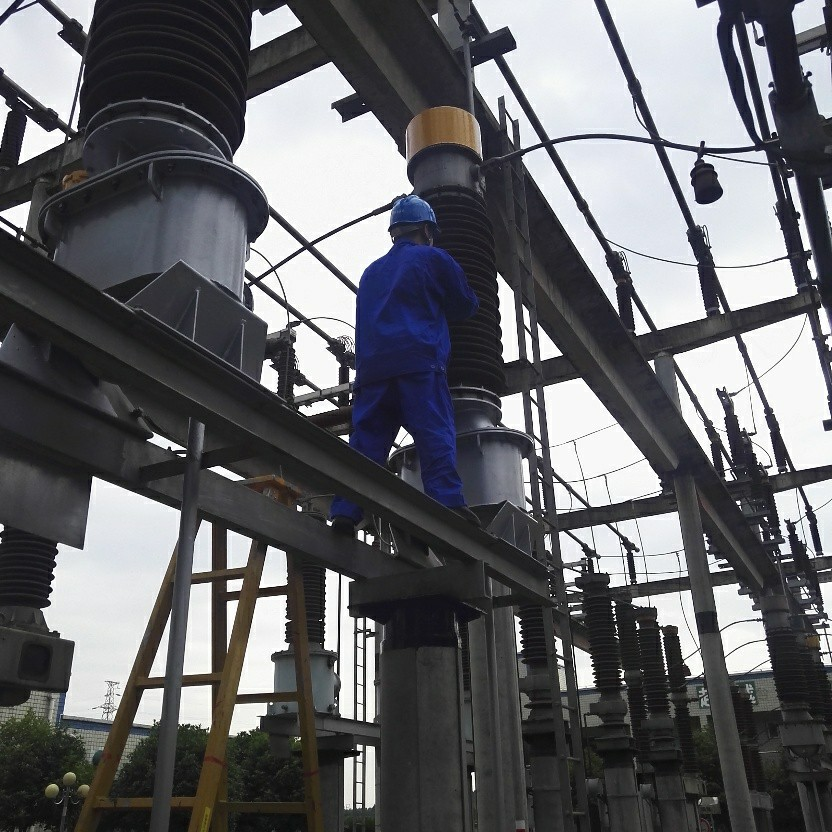hat: (384, 191, 442, 251)
